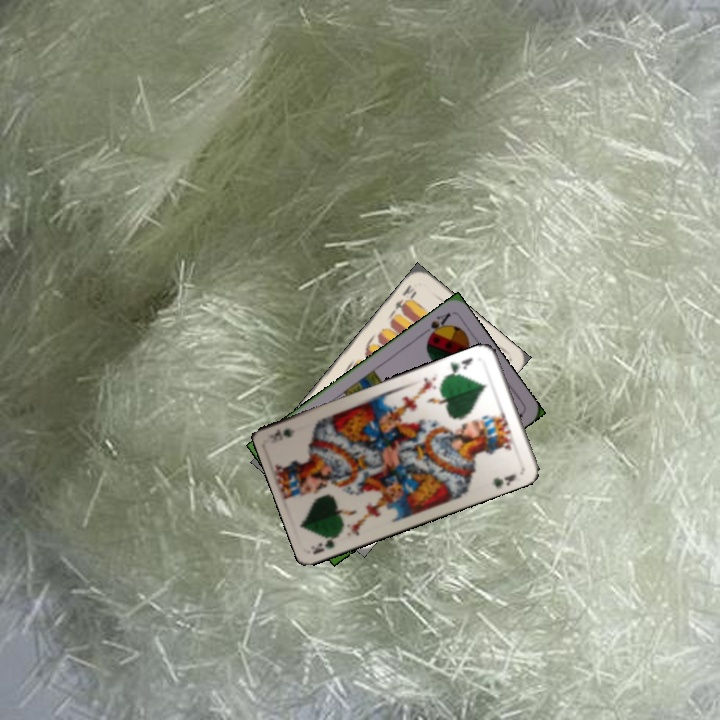E10: (389, 281, 419, 316)
GK: (308, 527, 346, 557), (445, 354, 475, 378)
SA: (418, 309, 454, 343)
